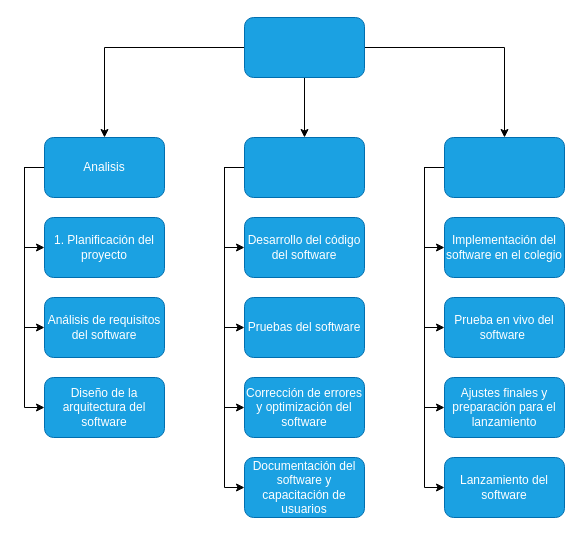
The diagram is 582 pixels wide and 535 high, and some of its shapes have lost their labels. Here are the shapes that lost their labels. From the top down, the box of each, then its label:
(244, 16, 364, 78): Sistema de emisión de Boletas
(244, 136, 364, 198): Desarrollo
(444, 136, 564, 198): Implementación
